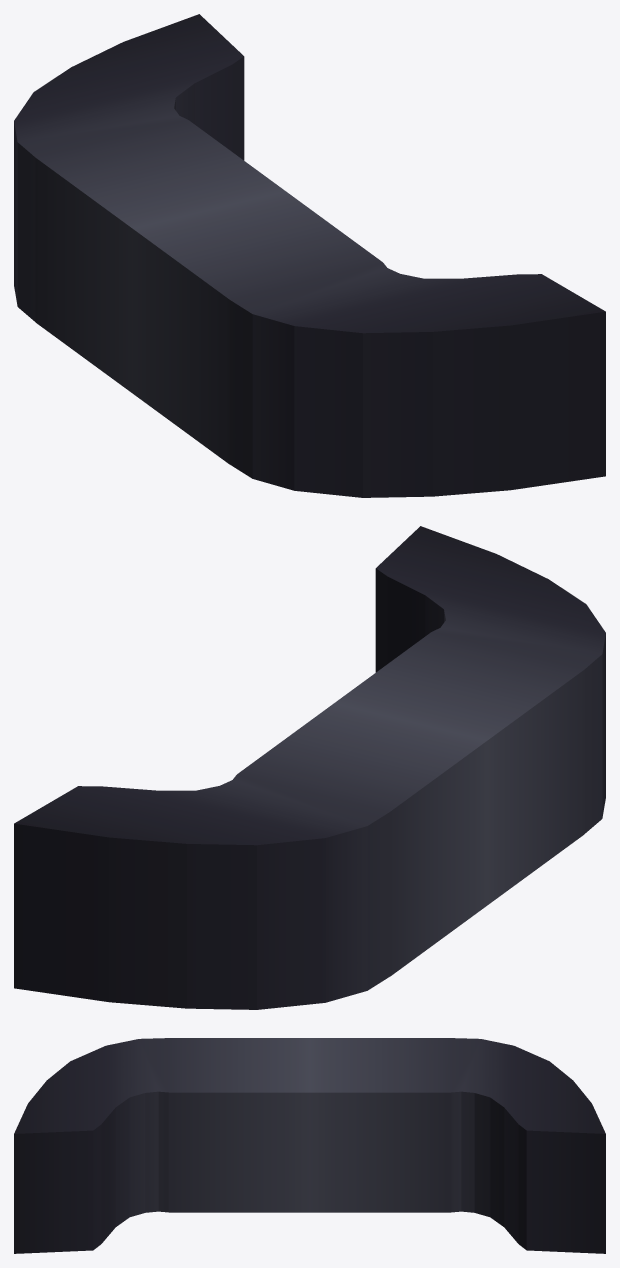
File: receptionish-desk-new.glb
3 views of the same model, one above another, from view 1: azimuth 30°, elevation 25°; view 2: azimuth 150°, elevation 25°; view 3: azimuth 270°, elevation 25° (orthographic). The views are drawn at different scales.
Parts seen in each view (by area): view 1: receptionish-col; view 2: receptionish-col; view 3: receptionish-col.
Boxes of the visible parts, bbox=[...] form: receptionish-col: bbox=[14, 14, 605, 497]; receptionish-col: bbox=[14, 526, 605, 1009]; receptionish-col: bbox=[14, 1038, 605, 1253].
Bounding box in the file's own units: 2.38 × 1.39 × 6.2.
1 material, 1 textured.
